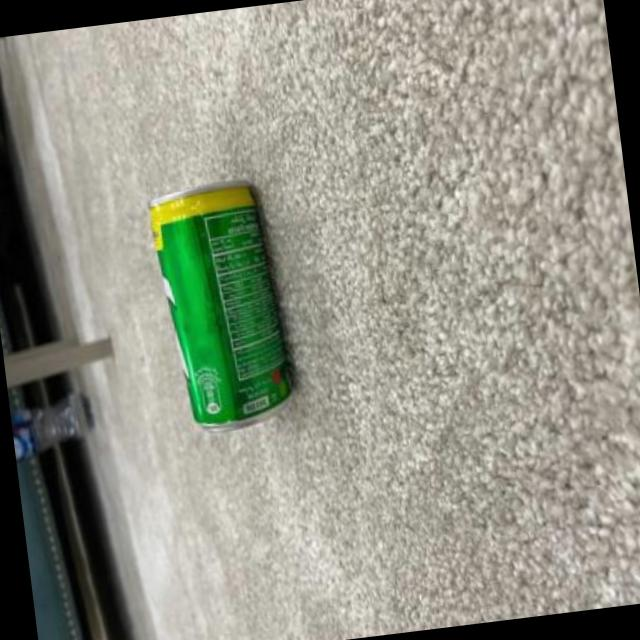metal: (147, 181, 287, 427)
